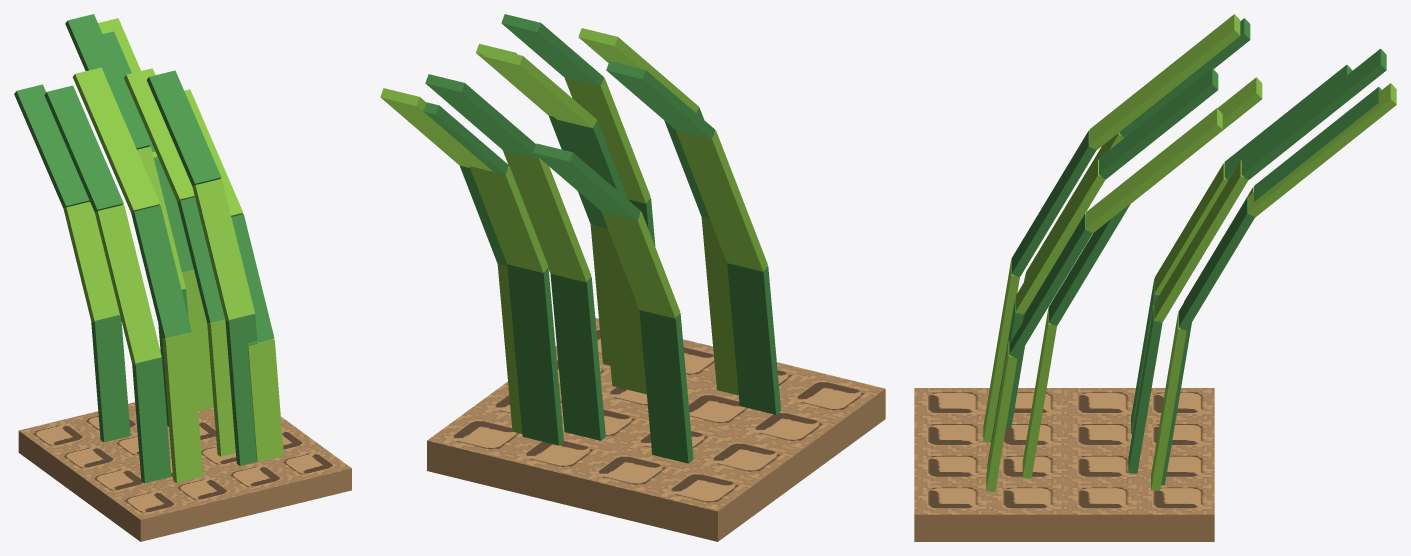
Rendered from StreamWeed.glb.
3 renders of one model, left to right at view 1: azimuth 30°, elevation 25°; view 2: azimuth 150°, elevation 25°; view 3: azimuth 270°, elevation 25°, orthographic. The views are drawn at different scales.
Visible parts, largest first — view 1: StreamWeed; view 2: StreamWeed; view 3: StreamWeed.
Boxes of the visible parts, box(x1,y1,x2,y2) form: StreamWeed: box(14, 14, 351, 541); StreamWeed: box(380, 14, 885, 541); StreamWeed: box(914, 14, 1396, 541).
Bounding box in the file's own units: 4 × 6.46 × 6.42.
Materials: 1 (1 with a texture image).
